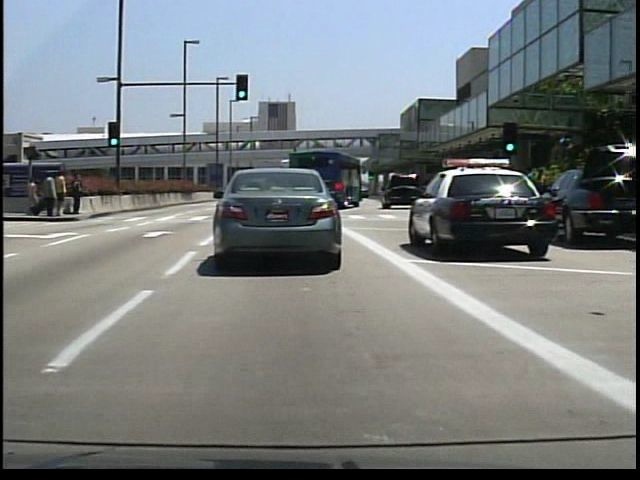person: (41, 171, 58, 217), (67, 171, 84, 217), (22, 174, 41, 215), (54, 170, 68, 219)
